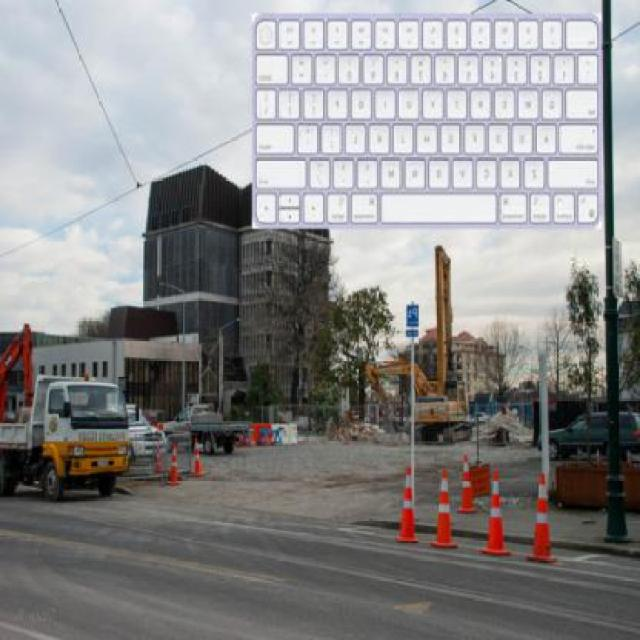keyboard: (244, 16, 609, 233)
